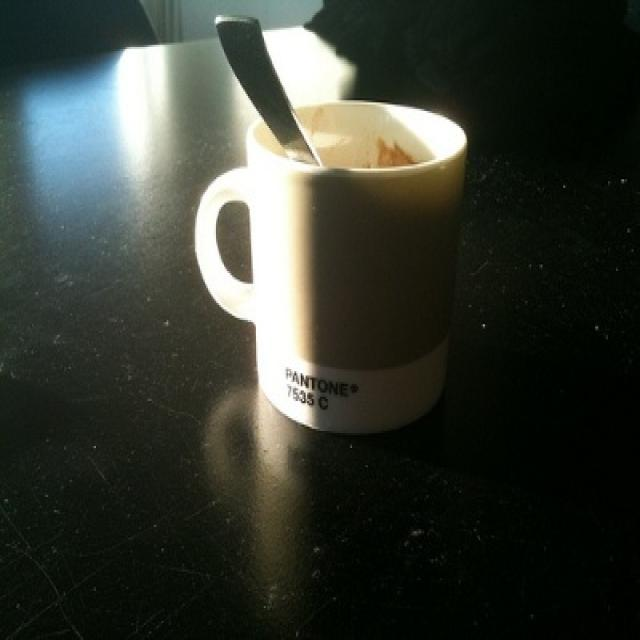Cup: (223, 85, 453, 438)
